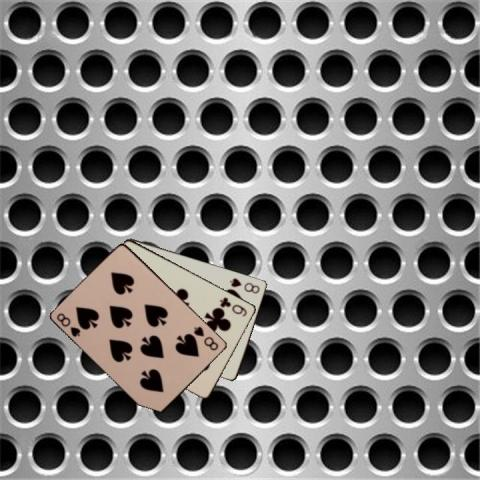6c: (217, 294, 249, 318)
8s: (191, 323, 220, 352), (54, 310, 82, 339), (227, 274, 261, 294)
